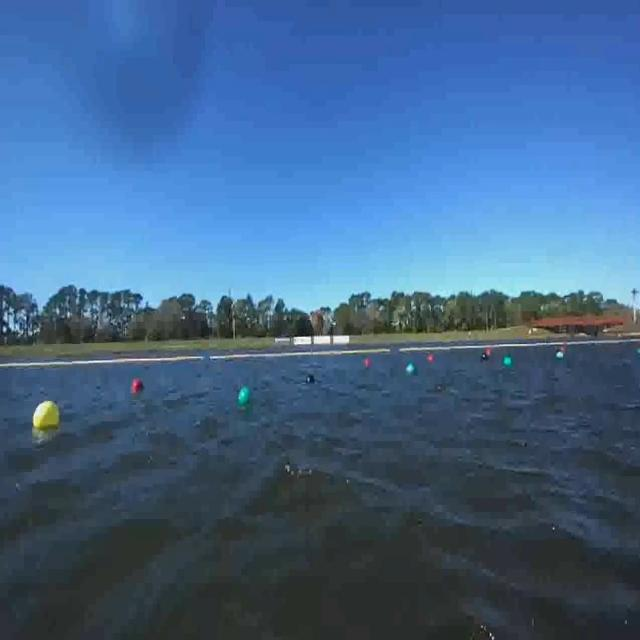green-buoy: (237, 384, 250, 404), (502, 356, 512, 367)
red-buoy: (134, 377, 144, 392)
yellow-buoy: (33, 401, 60, 431)
